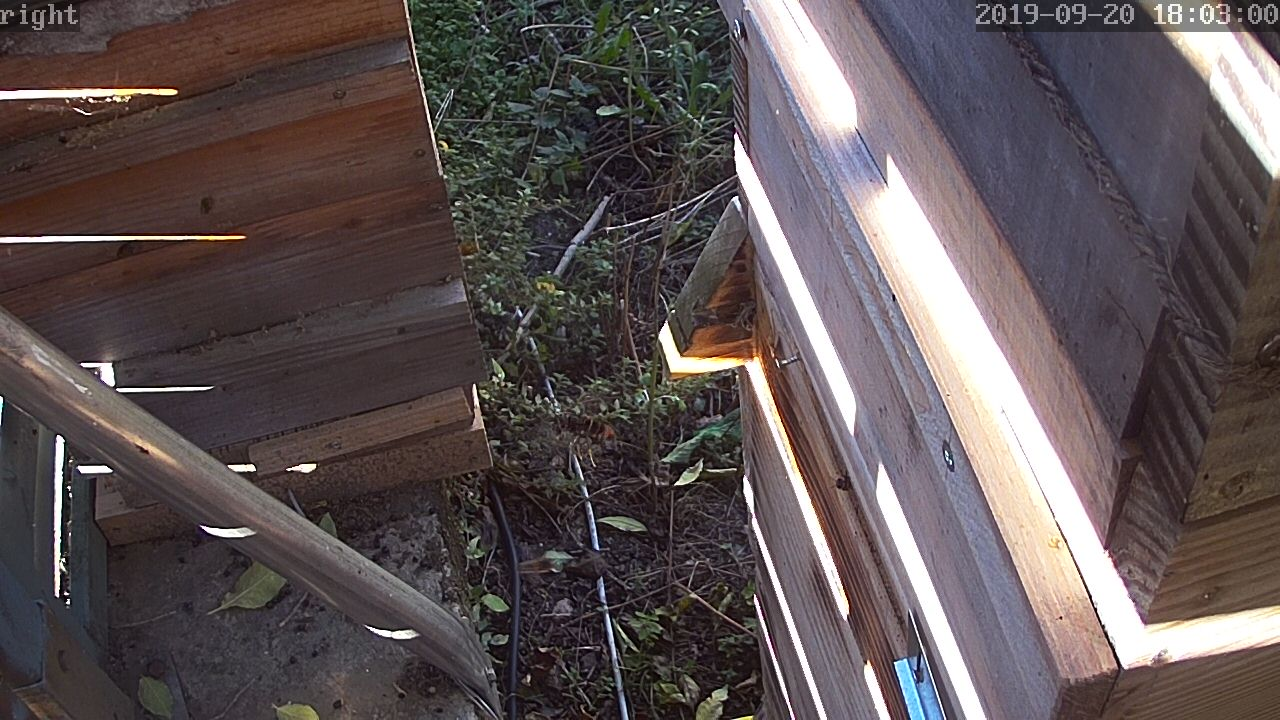bee: (828, 470, 857, 492)
hornet: (547, 405, 624, 467)
